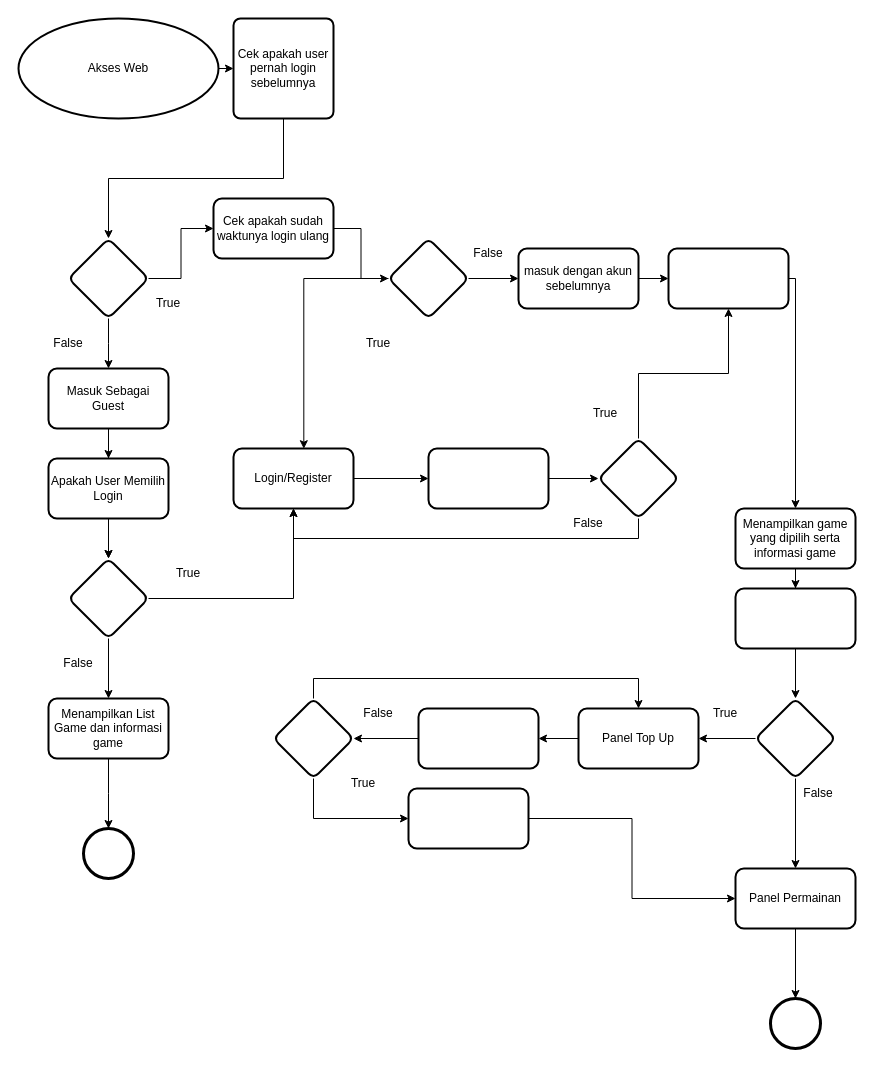
The diagram is 873 pixels wide and 1066 high, and some of its shapes have lost their labels. The shapes that lost their labels are listed below. From the top down, each one's centre as x and y in pixels, then its label:
At [728,278]: "Menampilkan List Game".
At [488,478]: "Jika berhasil Login".
At [795,618]: "Apakah user ingin top up".
At [478,738]: "Apakah Top Up berhasil".
At [468,818]: "Menambahkan poin".
